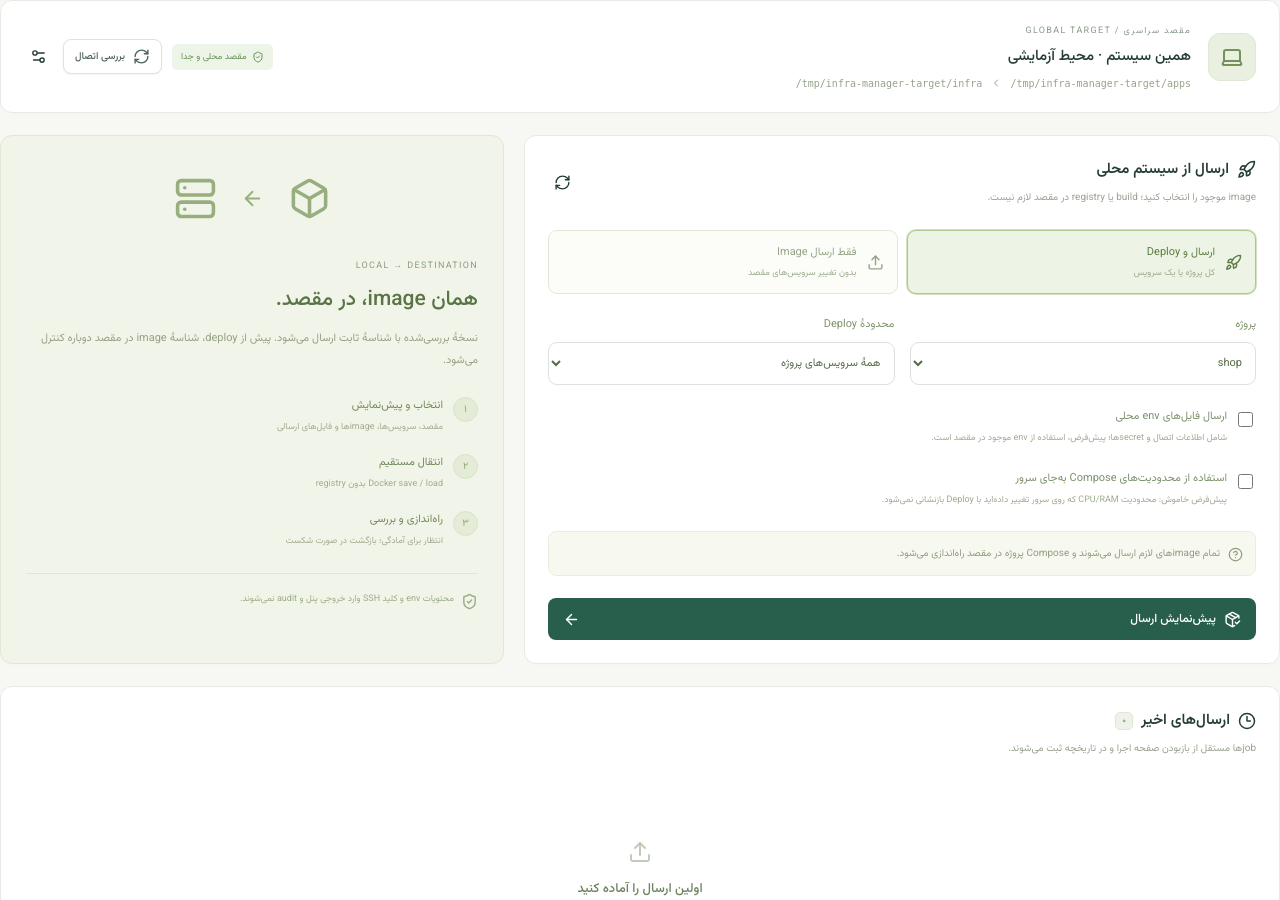
Test case: keeps server limits by default and sends an explicit opt-in to use compose limits
Select "shop" in the dropdown named "پروژه برای ارسال" at (1083, 364), box [910, 342, 1256, 385]
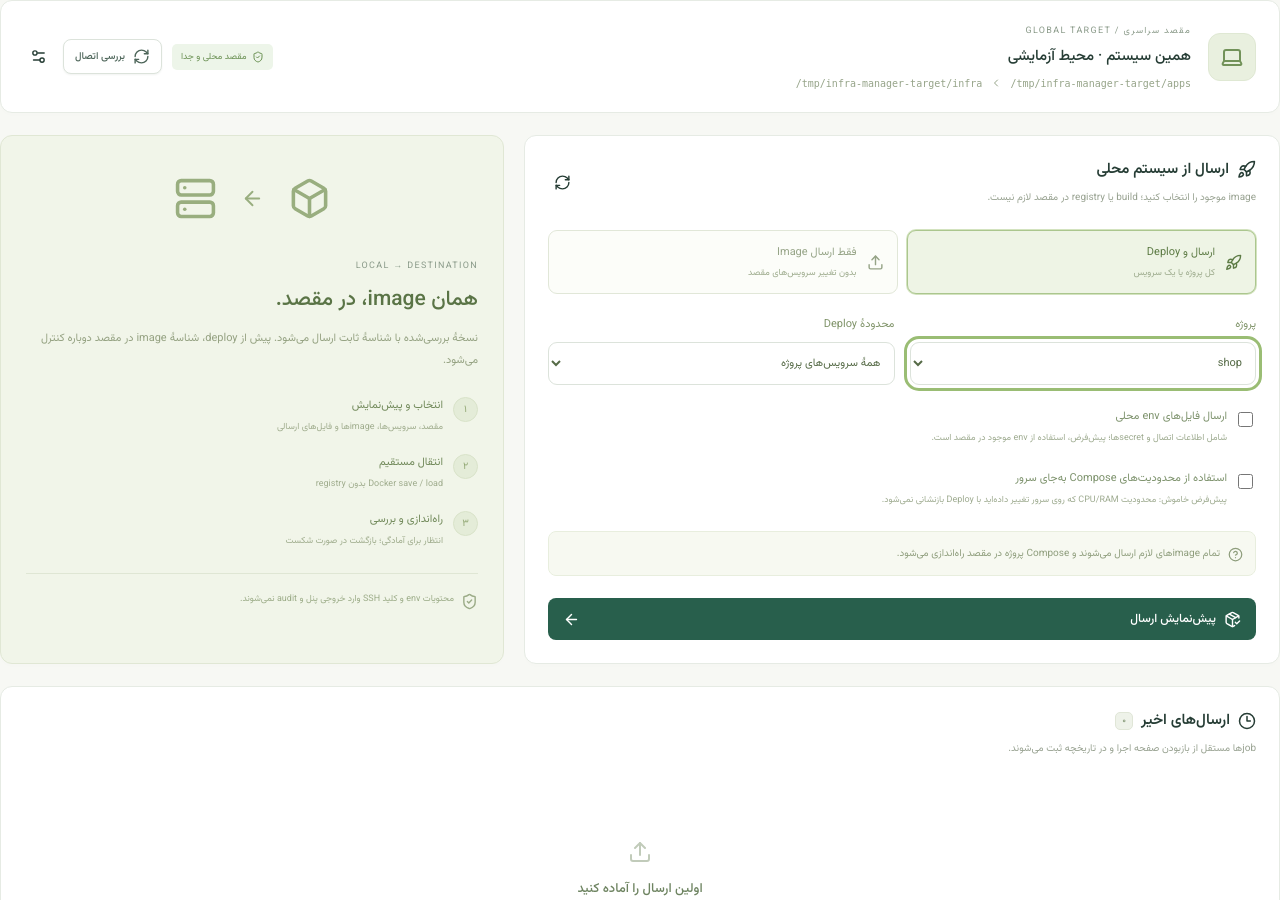
Click the button "پیش‌نمایش ارسال" at (1173, 619), box [548, 598, 1256, 640]
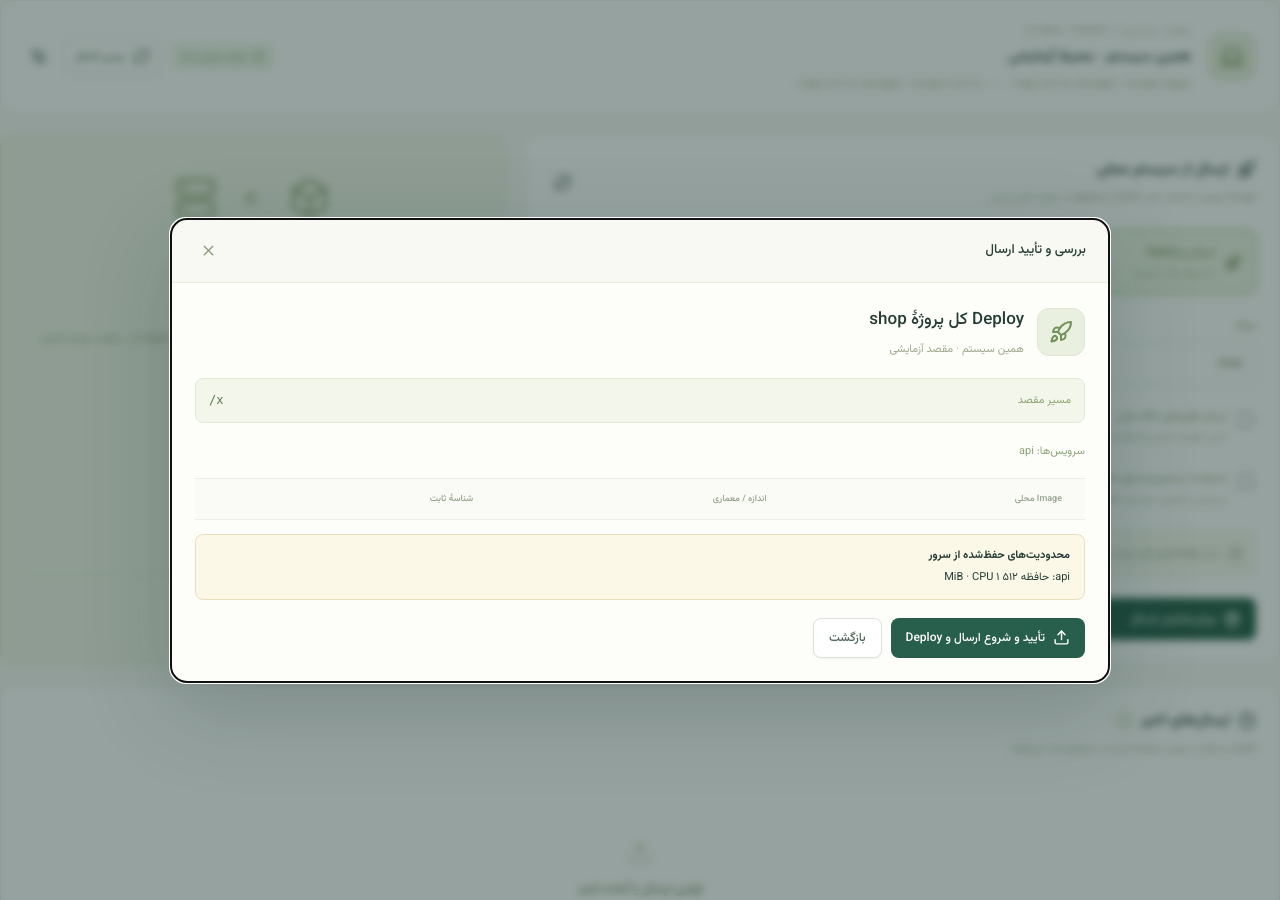
Expected: the text "محدودیت‌های حفظ‌شده از سرور" is shown, [929, 546, 1070, 564]
Click the button "بازگشت" at (847, 638), box [813, 618, 882, 658]
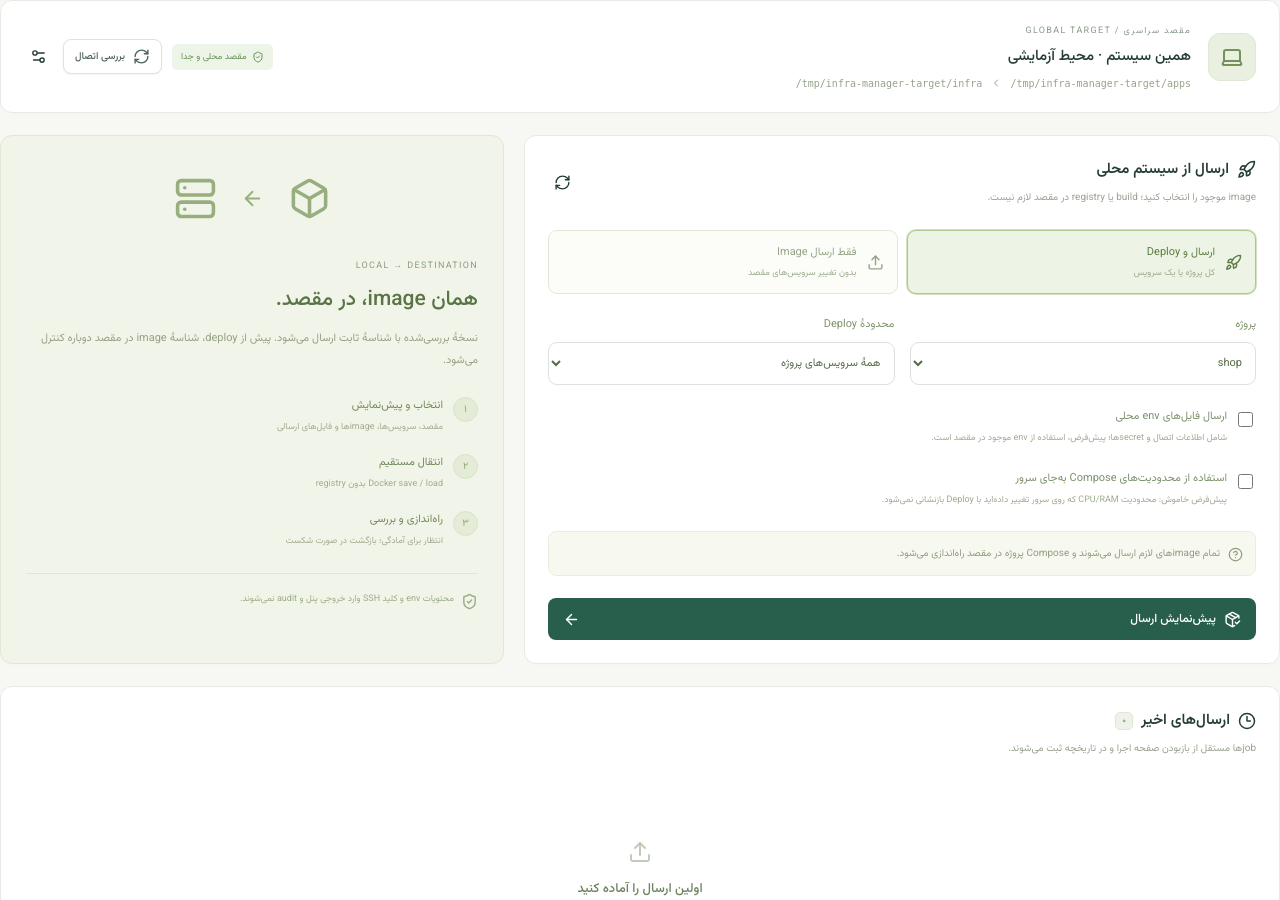
Click the checkbox labelled "استفاده از محدودیت‌های Compose" at (1246, 482), box [1238, 474, 1253, 489]
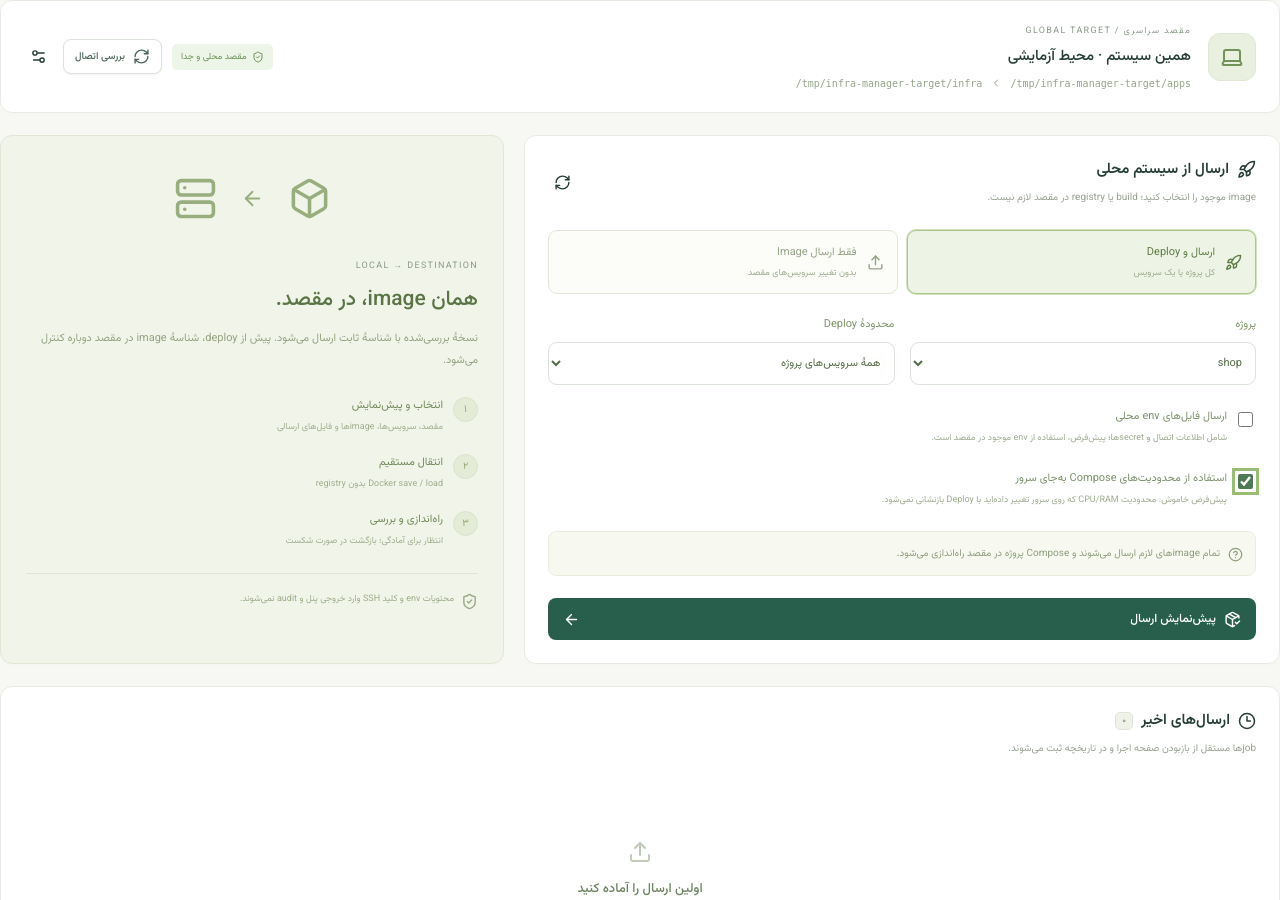
Click the button "پیش‌نمایش ارسال" at (1173, 619), box [548, 598, 1256, 640]
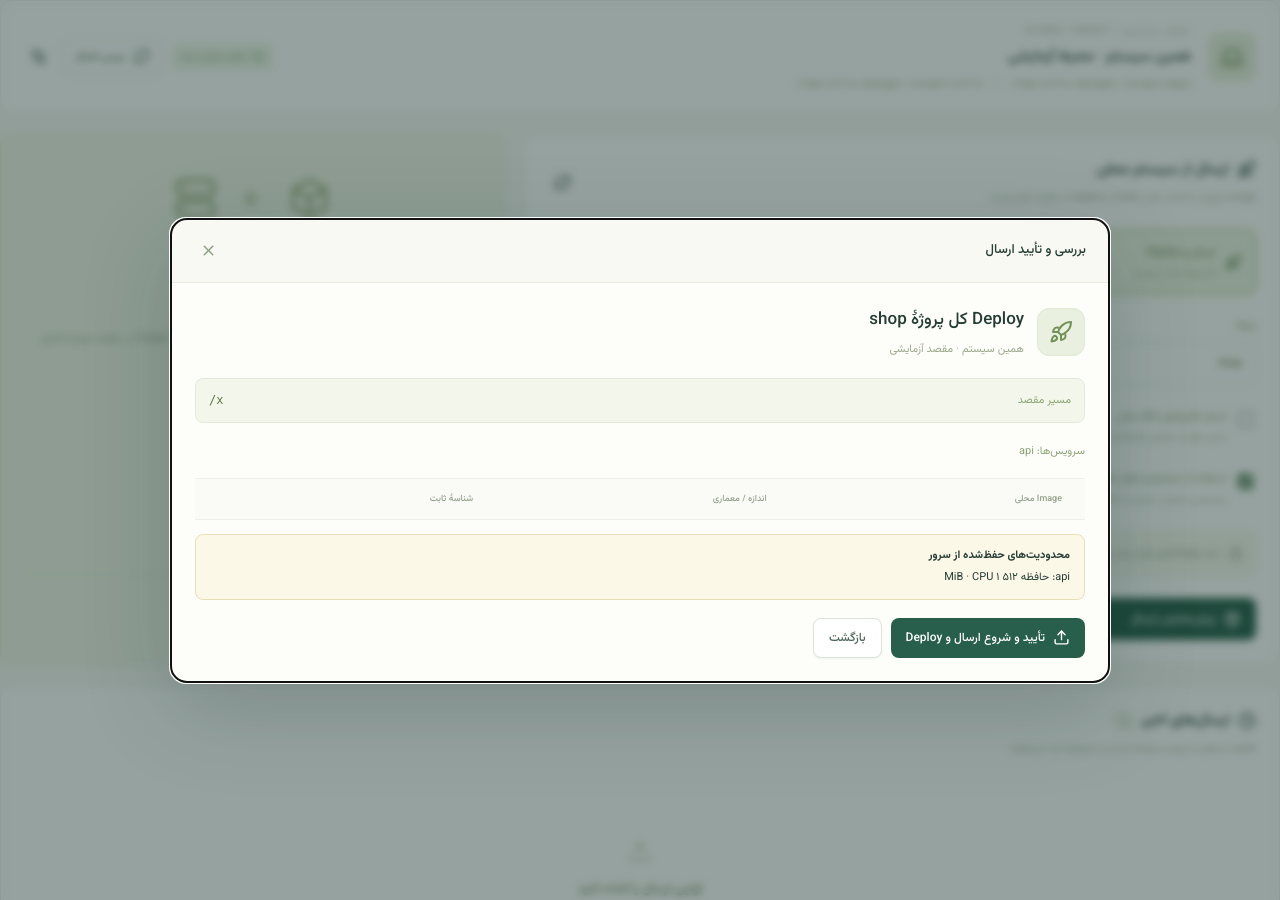
Expected: the dialog is shown, [170, 218, 1110, 682]
